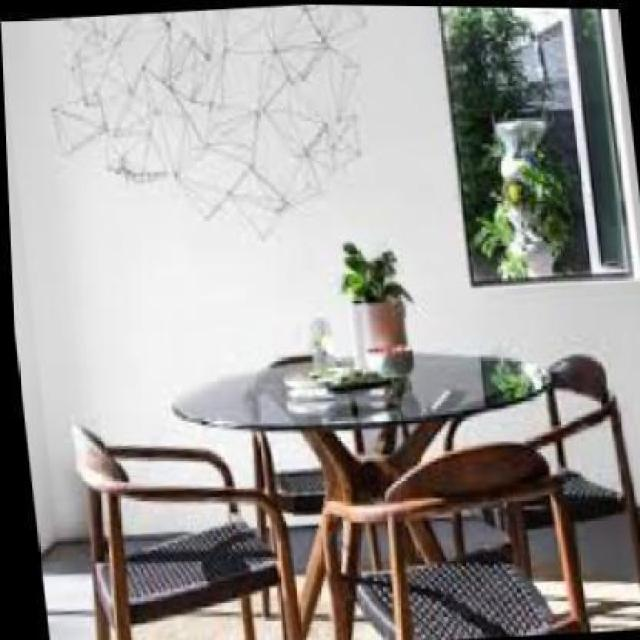tables: (169, 350, 565, 638)
